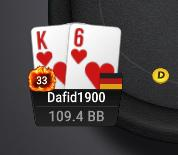6h: (68, 23, 121, 88)
Kh: (30, 25, 67, 88)
